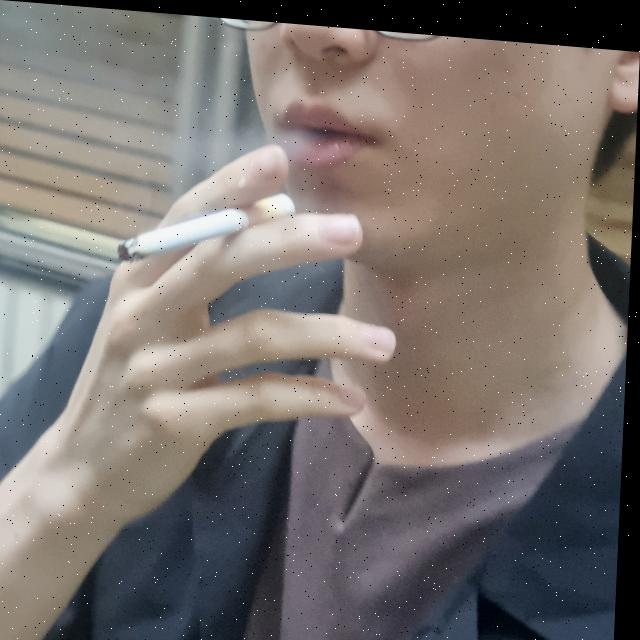cigarette: (121, 173, 296, 270)
